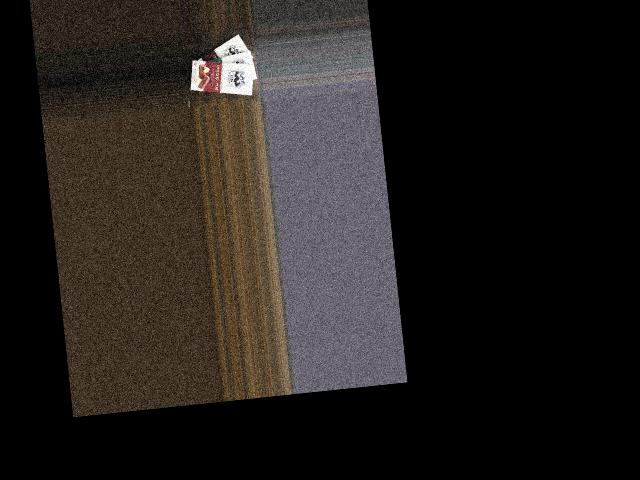chocolate: (185, 32, 256, 81)
